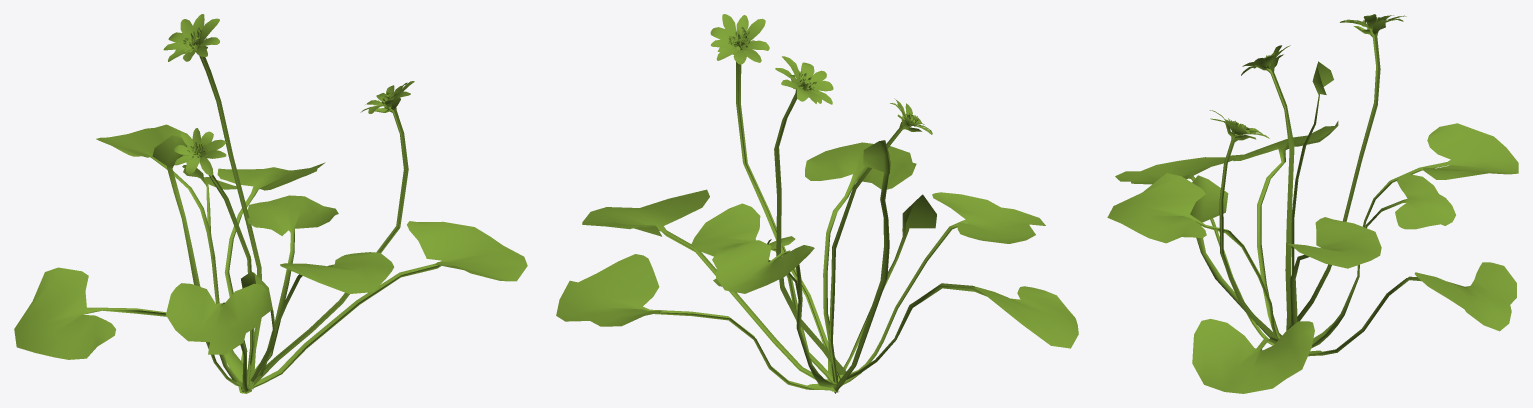
Rendered from groundcover_plant_08.fbx.
3 views of the same model, side by side, from view 1: azimuth 30°, elevation 25°; view 2: azimuth 150°, elevation 25°; view 3: azimuth 270°, elevation 25° (orthographic). The views are drawn at different scales.
Visible parts, largest first — view 1: groundcover_plant_08_LOD0; view 2: groundcover_plant_08_LOD0; view 3: groundcover_plant_08_LOD0.
Boxes of the visible parts, x1,y1,x2,y2 form: groundcover_plant_08_LOD0: (14, 14, 527, 393); groundcover_plant_08_LOD0: (556, 14, 1078, 393); groundcover_plant_08_LOD0: (1107, 14, 1518, 393).
Size of what is drawn, in the model's own units: 0.2571 by 0.1756 by 0.1863.
